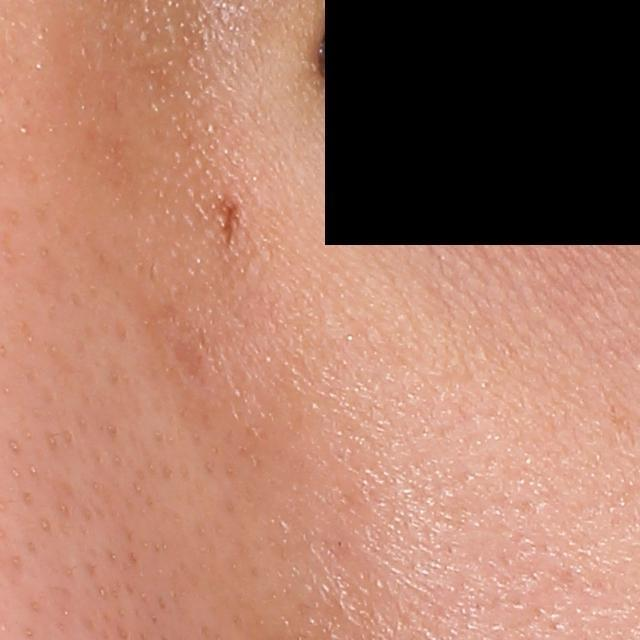nevus: (215, 191, 244, 252)
